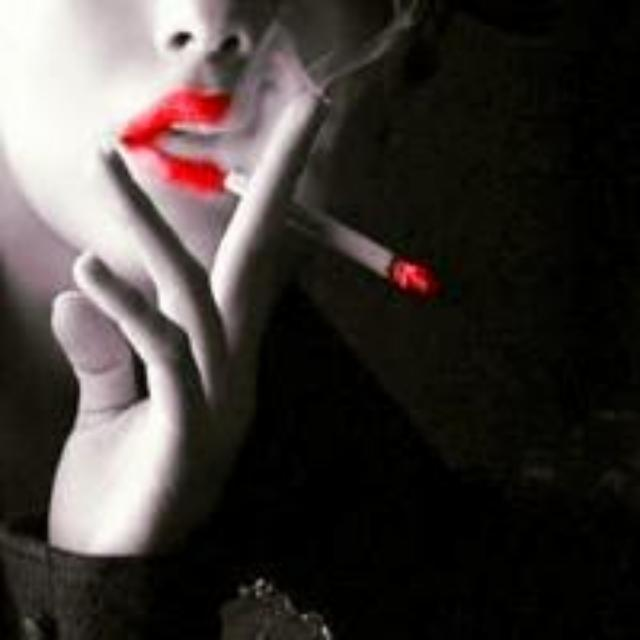Smoking: (290, 196, 442, 304)
